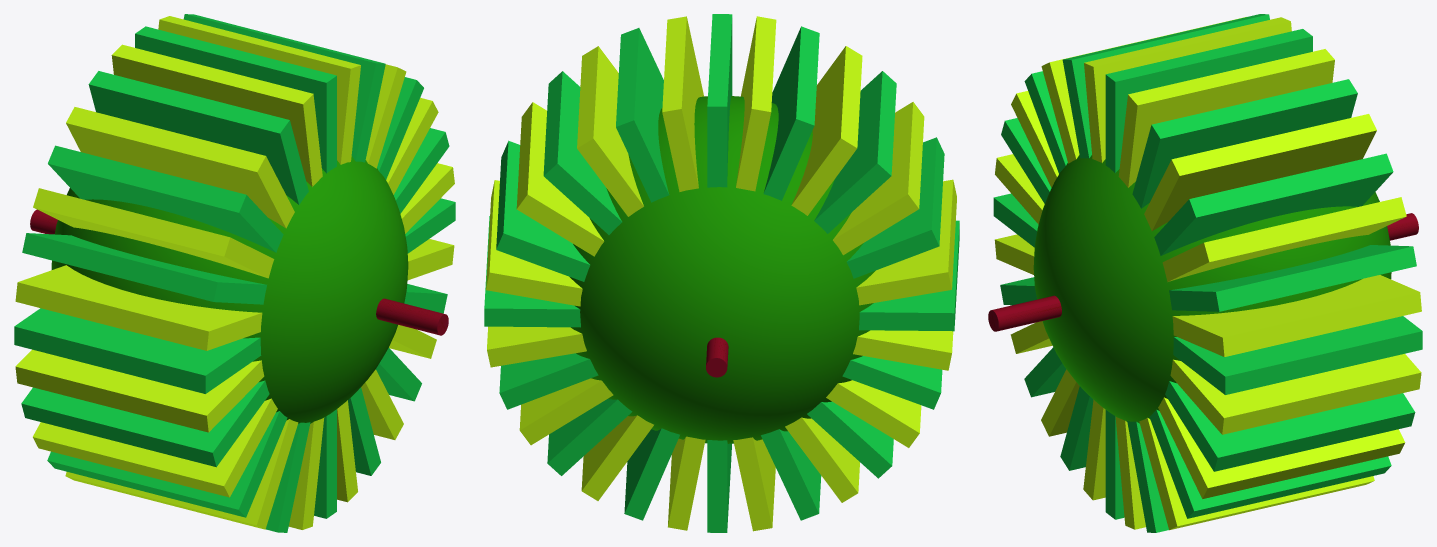
The model's file is Green_Gear_V1.glb.
3 views of the same model, side by side, from view 1: azimuth 30°, elevation 25°; view 2: azimuth 150°, elevation 25°; view 3: azimuth 270°, elevation 25° (orthographic). The views are drawn at different scales.
Parts seen in each view (by area): view 1: mesh_id171, mesh_id127, mesh_id104, mesh_id56, mesh_id126, mesh_id124, mesh_id85, mesh_id103, mesh_id129, mesh_id122, mesh_id67, mesh_id123 (+6 smaller); view 2: mesh_id171, mesh_id127, mesh_id128, mesh_id85, mesh_id101, mesh_id84, mesh_id123, mesh_id122, mesh_id102, mesh_id104, mesh_id103, mesh_id126 (+6 smaller); view 3: mesh_id171, mesh_id128, mesh_id101, mesh_id126, mesh_id124, mesh_id125, mesh_id84, mesh_id102, mesh_id56, mesh_id123, mesh_id67, mesh_id103 (+6 smaller).
Part boxes in pixels (x1,y1,x2,y2): mesh_id171: [51, 156, 408, 423]; mesh_id127: [66, 107, 403, 439]; mesh_id104: [88, 71, 380, 475]; mesh_id56: [14, 198, 455, 393]; mesh_id126: [15, 239, 454, 350]; mesh_id124: [15, 163, 454, 432]; mesh_id85: [48, 145, 421, 401]; mesh_id103: [21, 128, 449, 467]; mesh_id129: [111, 44, 357, 502]; mesh_id122: [33, 98, 438, 497]; mesh_id67: [135, 26, 336, 518]; mesh_id123: [33, 188, 436, 358]; mesh_id171: [570, 96, 875, 443]; mesh_id127: [581, 46, 862, 500]; mesh_id128: [577, 46, 859, 502]; mesh_id85: [547, 71, 896, 475]; mesh_id101: [616, 28, 821, 520]; mesh_id84: [543, 71, 893, 478]; mesh_id123: [519, 102, 924, 445]; mesh_id122: [516, 102, 921, 447]; mesh_id102: [499, 137, 944, 409]; mesh_id104: [624, 26, 819, 520]; mesh_id103: [496, 140, 942, 409]; mesh_id126: [487, 179, 956, 367]; mesh_id171: [1033, 155, 1391, 423]; mesh_id128: [1041, 114, 1376, 436]; mesh_id101: [1060, 79, 1357, 470]; mesh_id126: [995, 154, 1421, 434]; mesh_id124: [994, 234, 1421, 356]; mesh_id125: [1083, 49, 1334, 500]; mesh_id84: [1024, 153, 1393, 397]; mesh_id102: [1001, 118, 1415, 471]; mesh_id56: [993, 193, 1422, 394]; mesh_id123: [1011, 91, 1405, 498]; mesh_id67: [1105, 29, 1312, 519]; mesh_id103: [1000, 245, 1416, 311].
Bounding box in the file's own units: 0.1865 × 0.1694 × 0.1523.
Materials: 18 (18 with a texture image).
